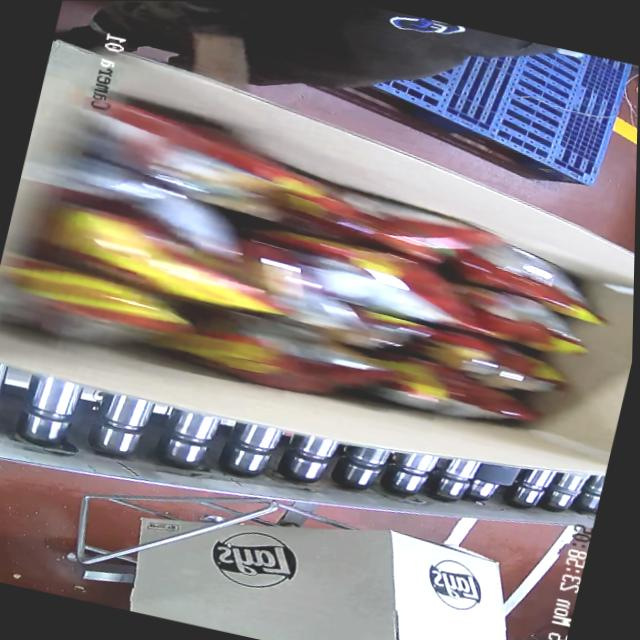MASALA: (43, 94, 620, 453)
